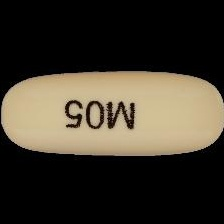0115-1438: (0, 0, 224, 224)
